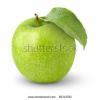Apple leaf: (46, 5, 92, 44)
